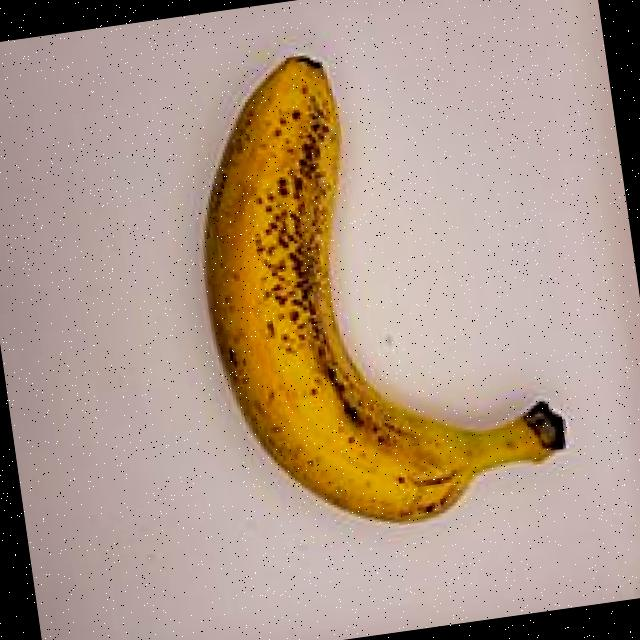Overripe: (140, 4, 598, 566)
